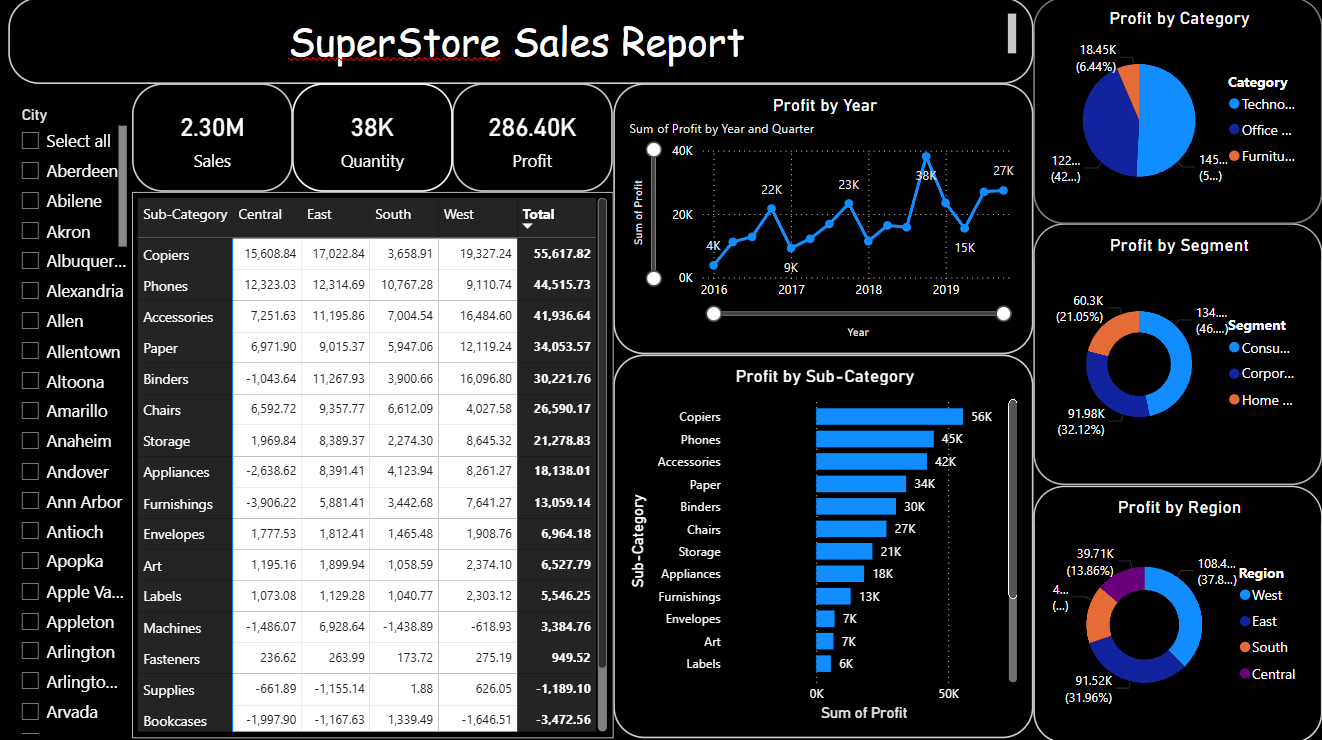

What the dashboard file says about the page in this screenshot:
{"tool":"powerbi","page":{"name":"SuperStore","canvas":[1280,720],"ordinal":0},"visuals":[{"type":"donutChart","title":"Profit by Region","fields":{"Y":["Sum(Orders.Profit)"],"Category":["Orders.Region"]},"box":[1000.2,471.6,279.4,249.2],"z":0},{"type":"donutChart","title":"Profit by Segment","fields":{"Y":["Sum(Orders.Profit)"],"Category":["Orders.Segment"]},"box":[1000.2,218.9,279.4,252.7],"z":1000},{"type":"pieChart","title":"Profit by Category","fields":{"Category":["Orders.Category"],"Y":["Sum(Orders.Profit)"]},"box":[1000.2,0,279.4,218.9],"z":2000},{"type":"lineChart","title":"Profit by Year","fields":{"Y":["Sum(Orders.Profit)"],"Category":["Orders.Order Date.Variation.Date Hierarchy.Year","Orders.Order Date.Variation.Date Hierarchy.Quarter"]},"box":[594.4,83.6,405.8,261.6],"z":3000},{"type":"textbox","box":[10.7,0,989.6,83.6],"z":4000},{"type":"clusteredBarChart","title":"Profit by Sub-Category","fields":{"Category":["Orders.Sub-Category"],"Y":["Sum(Orders.Profit)"]},"box":[594.4,345.3,405.8,370.2],"z":5000},{"type":"card","fields":{"Values":["Sum(Orders.Profit)"]},"box":[439.6,83.6,154.8,105],"z":6000},{"type":"card","fields":{"Values":["Sum(Orders.Quantity)"]},"box":[284.8,83.6,154.8,105],"z":7000},{"type":"card","fields":{"Values":["Sum(Orders.Sales)"]},"box":[129.9,83.6,154.8,105],"z":8000},{"type":"pivotTable","fields":{"Rows":["Orders.Sub-Category"],"Columns":["Orders.Region"],"Values":["Sum(Orders.Profit)"]},"box":[129.9,188.7,464.5,526.8],"z":9000},{"type":"slicer","fields":{"Values":["Orders.City"]},"box":[10.7,99.7,119.2,615.8],"z":10000}]}

Visuals, with their boxes in screenshot pixels (x1, y1, x2, y2), scaled from the page's 1280x720 canvas onto the 1322x740 screenshot:
"Profit by Region" donutChart: (x1=1033, y1=485, x2=1321, y2=739)
"Profit by Segment" donutChart: (x1=1033, y1=225, x2=1321, y2=485)
"Profit by Category" pieChart: (x1=1033, y1=0, x2=1321, y2=225)
"Profit by Year" lineChart: (x1=614, y1=86, x2=1033, y2=355)
textbox: (x1=11, y1=0, x2=1033, y2=86)
"Profit by Sub-Category" clusteredBarChart: (x1=614, y1=355, x2=1033, y2=735)
card - Sum(Orders.Profit): (x1=454, y1=86, x2=614, y2=194)
card - Sum(Orders.Quantity): (x1=294, y1=86, x2=454, y2=194)
card - Sum(Orders.Sales): (x1=134, y1=86, x2=294, y2=194)
pivotTable - Orders.Sub-Category x Orders.Region: (x1=134, y1=194, x2=614, y2=735)
slicer - Orders.City: (x1=11, y1=102, x2=134, y2=735)
